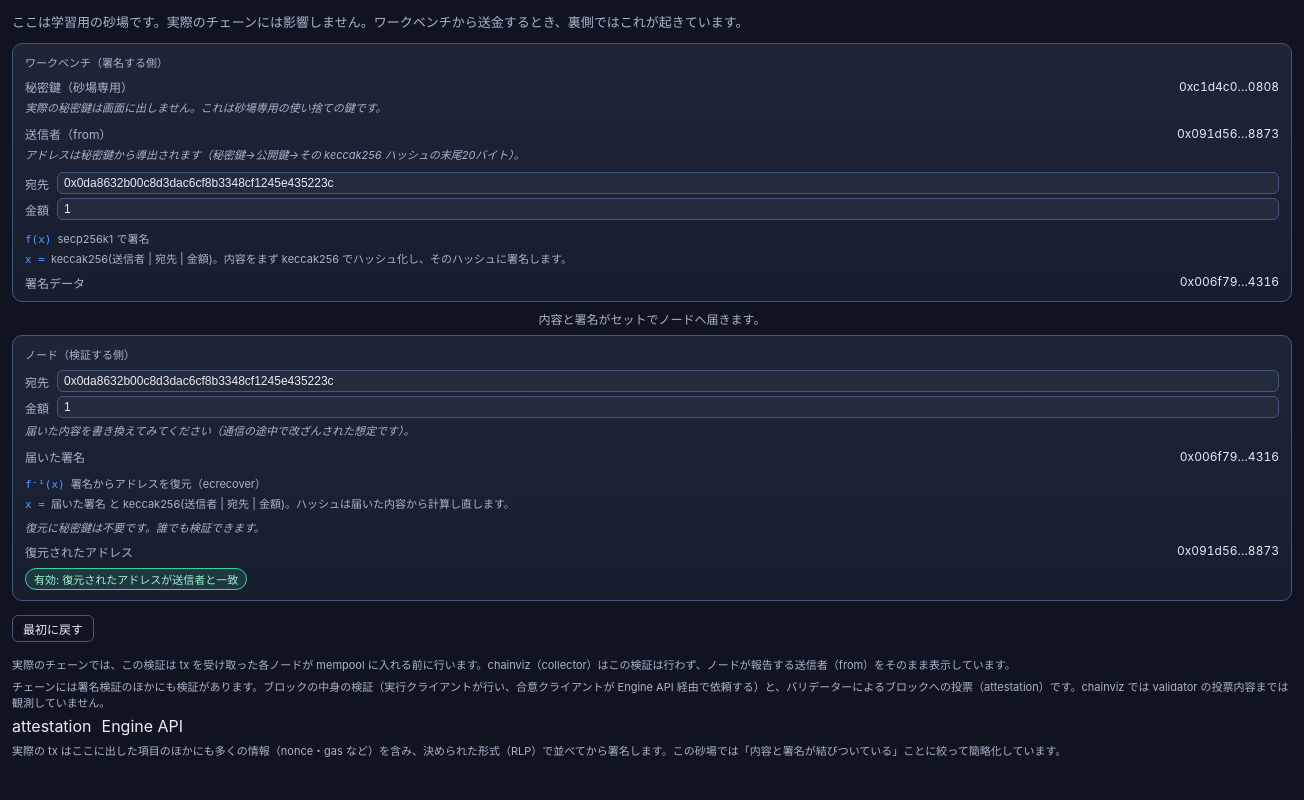
SignatureDemoView: resigning as the attacker cannot impersonate the sender › stays invalid and shows the attacker-specific result message
Step 1. Replace the text in the field with test id "signature-demo-received-amount" with "999" → (668, 407), box [57,396,1279,418]
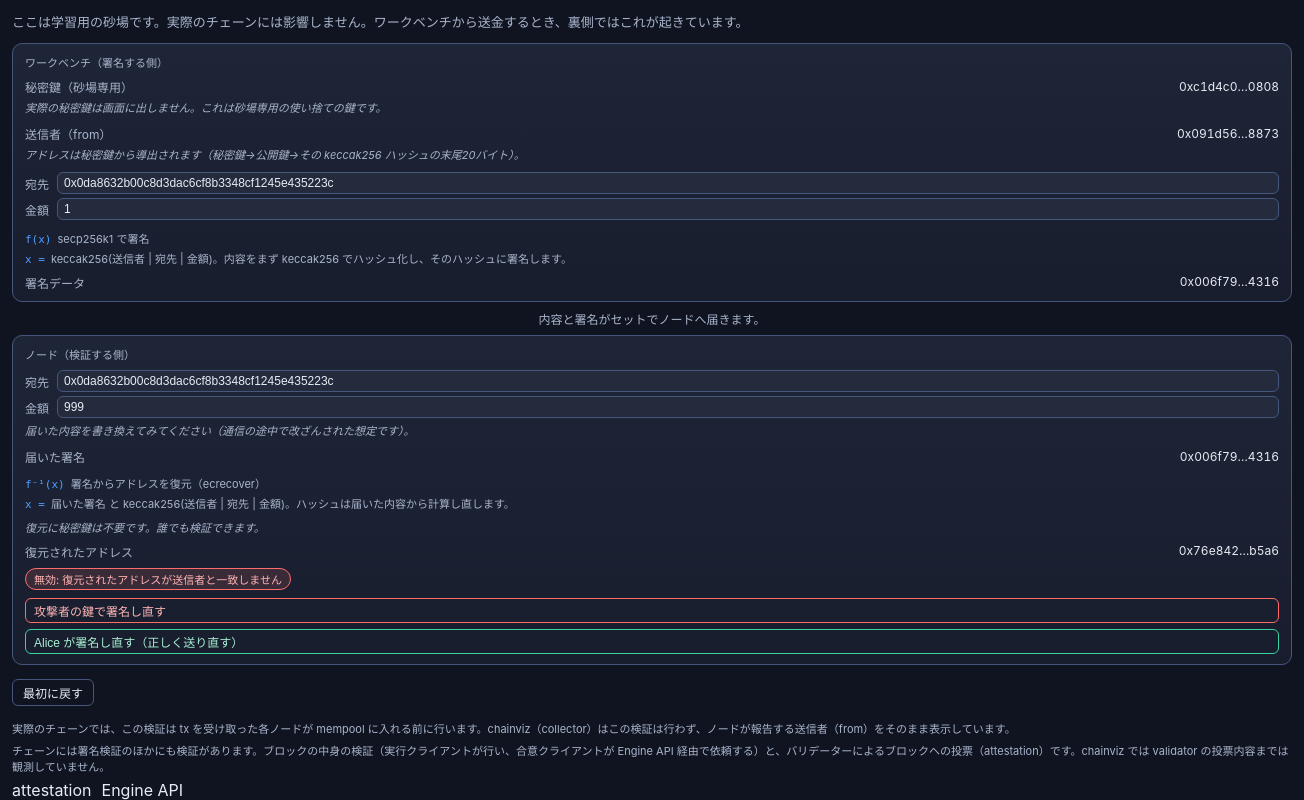
Step 2. Click the button with test id "signature-demo-resign-attacker" → (100, 612), box [25,598,1279,623]
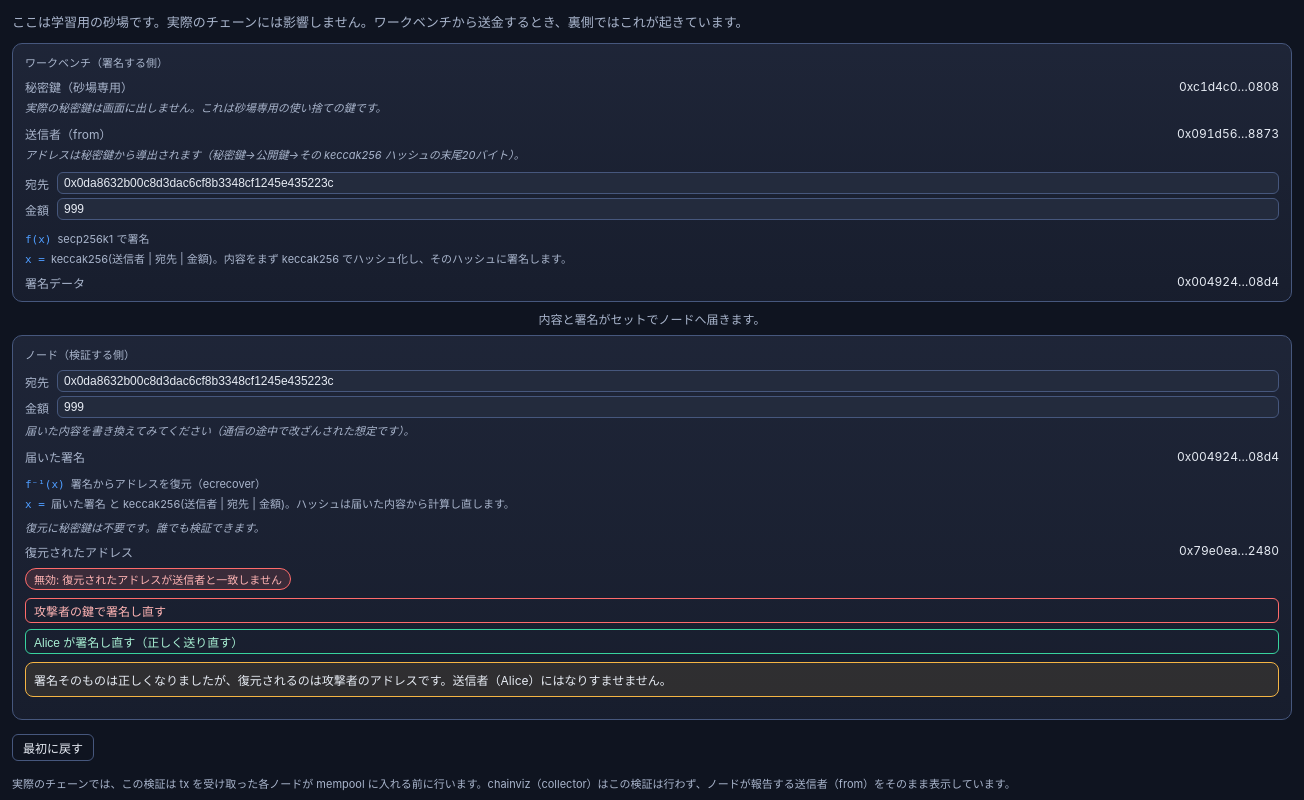
Check: the text with test id "signature-demo-badge" reads "無効: 復元されたアドレスが送信者と一致しません", box [34,573,282,587]
Check: the text "署名そのものは正しくなりましたが、復元されるのは攻撃者のアドレスです。送信者（Alice）にはなりすませません。" is shown, box [25,662,1279,697]
